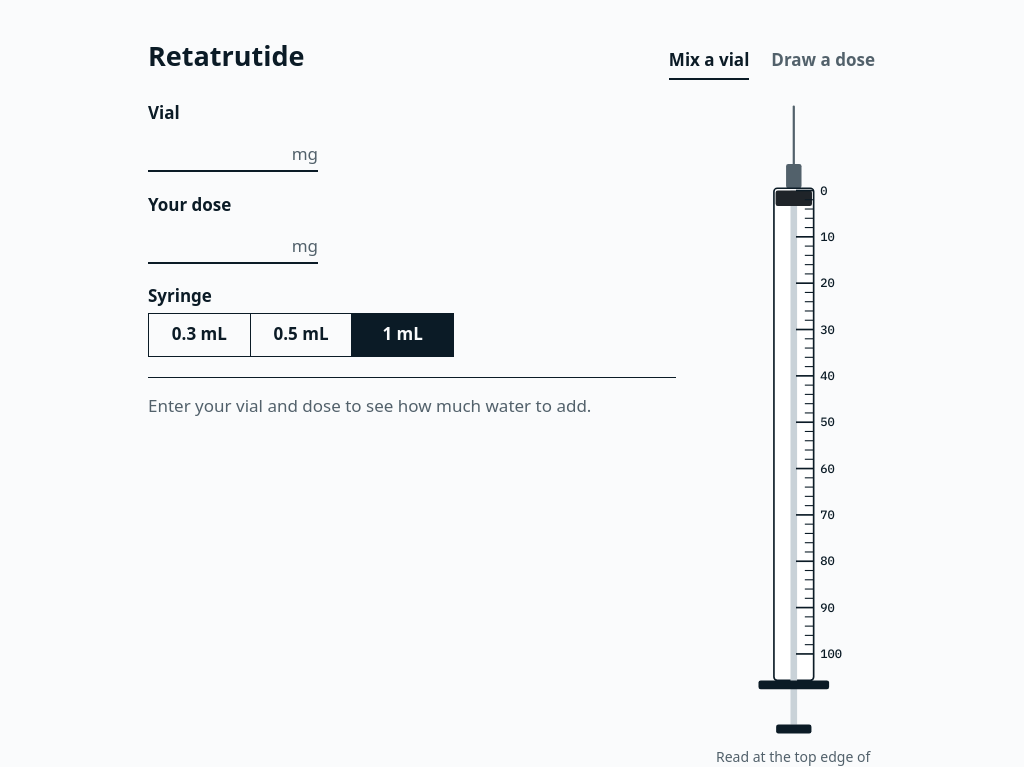
draw: a dose bigger than the vial shows a general error and an empty syringe
The width and height of the screenshot is (1024, 767).
Click the tab "Draw a dose" at (823, 60), box top-left (770, 45), bottom-right (876, 76)
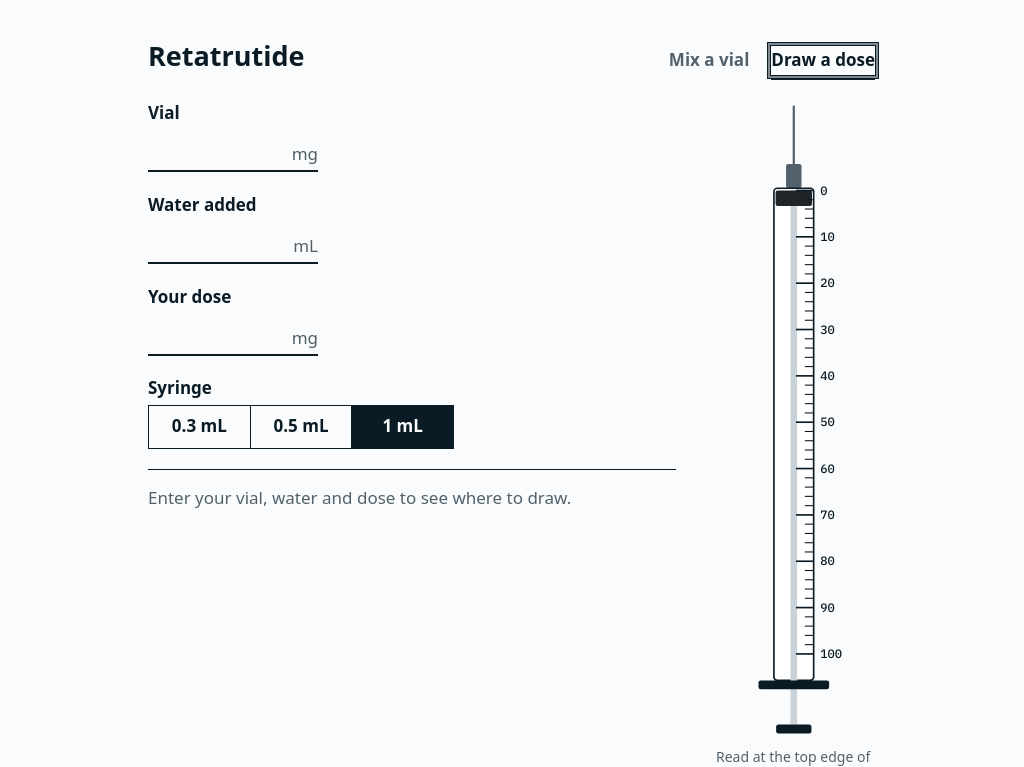
Type "10" into the field labelled "Vial" at (217, 150), box top-left (148, 130), bottom-right (286, 170)
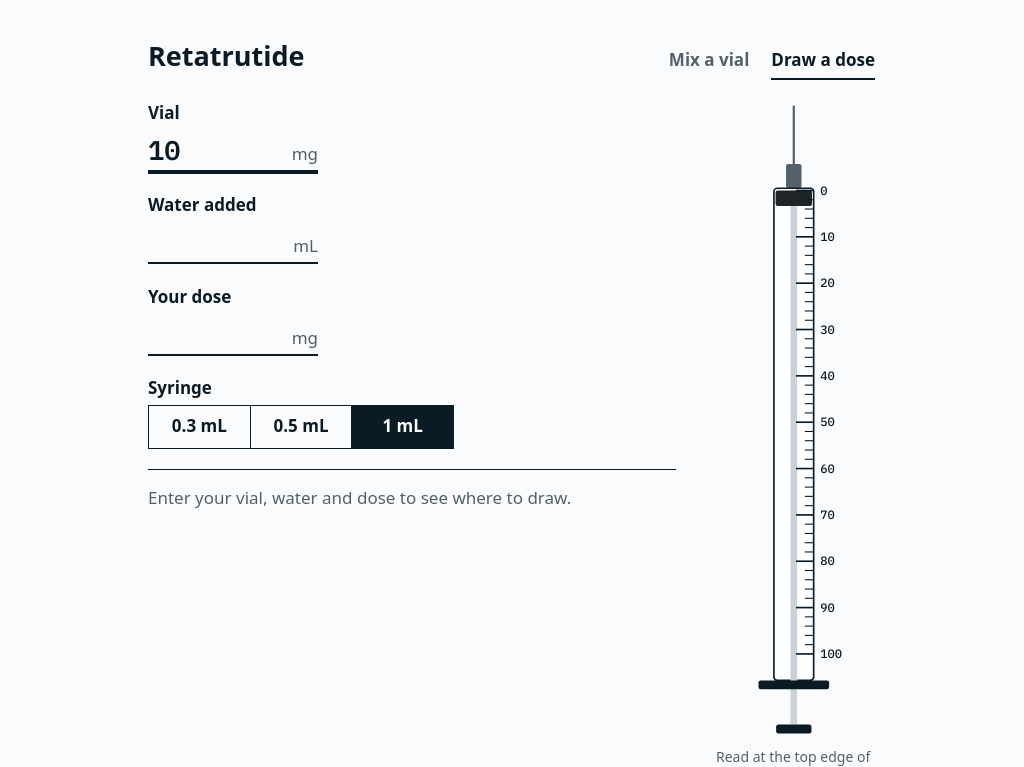
Type "2" into the field labelled "Water added" at (218, 242), box top-left (148, 222), bottom-right (287, 262)
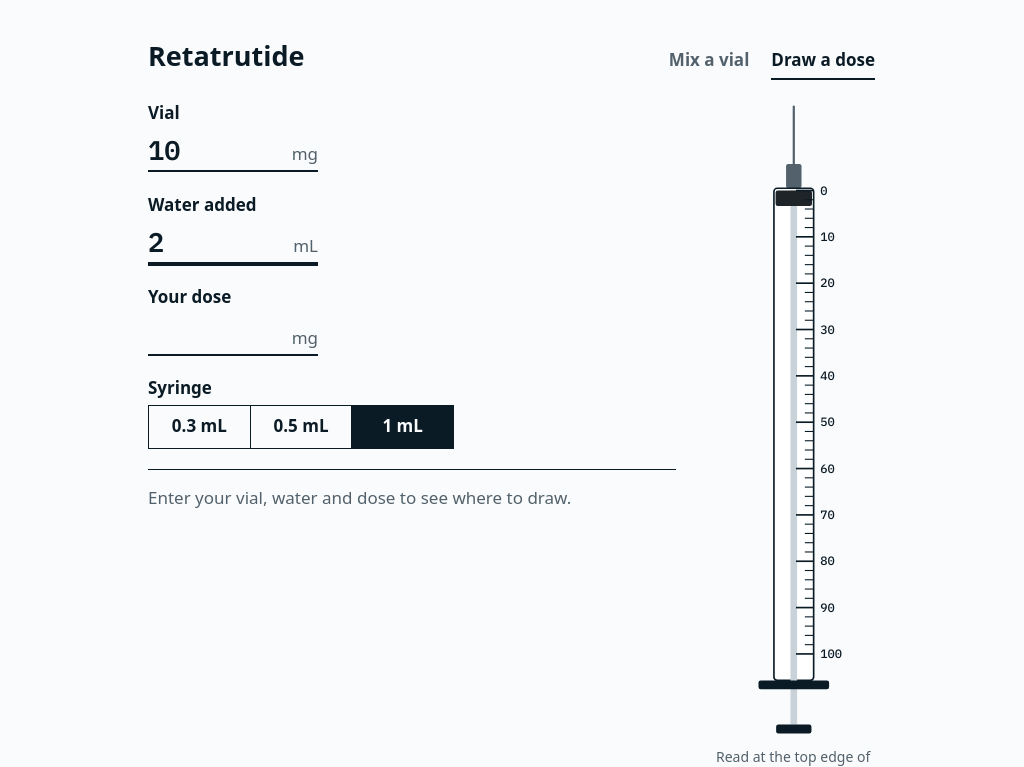
Type "12" into the field labelled "Your dose" at (217, 334), box top-left (148, 314), bottom-right (286, 354)
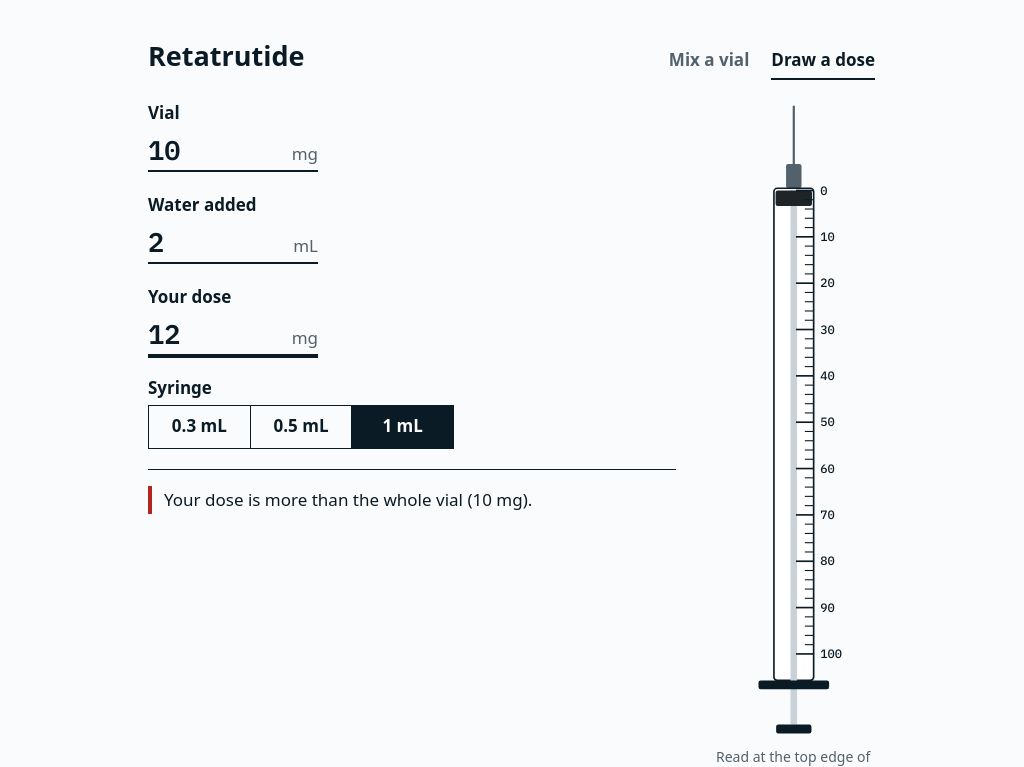
Check: the element named "Answer" reads "Your dose is more than the whole vial (10 mg).", box top-left (164, 488), bottom-right (532, 511)
